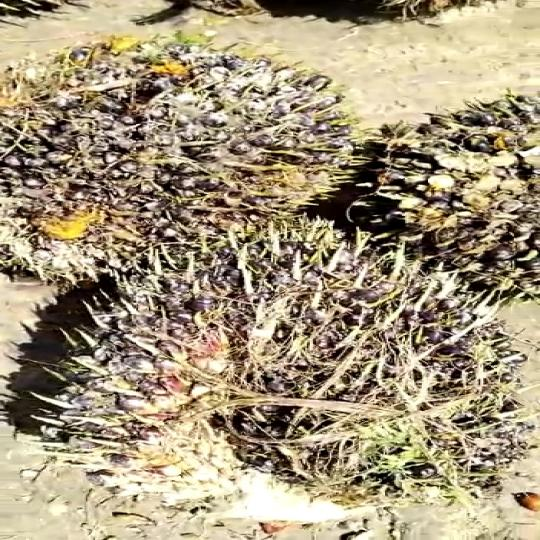mentah: (32, 215, 514, 522), (0, 34, 360, 274), (339, 96, 540, 286)
